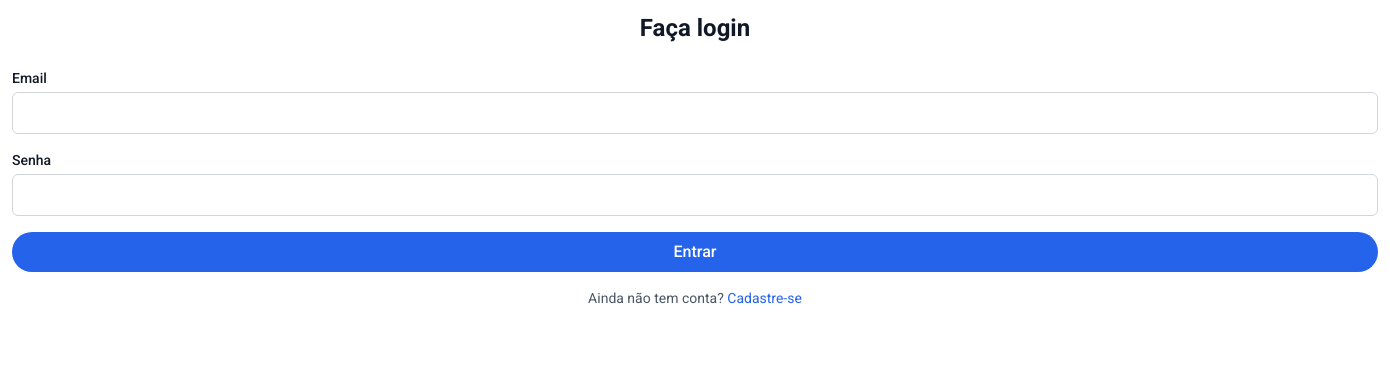
it: LoginForm › valida campos vazios
Click the button "Entrar": (695, 252) [12,232,1378,272]
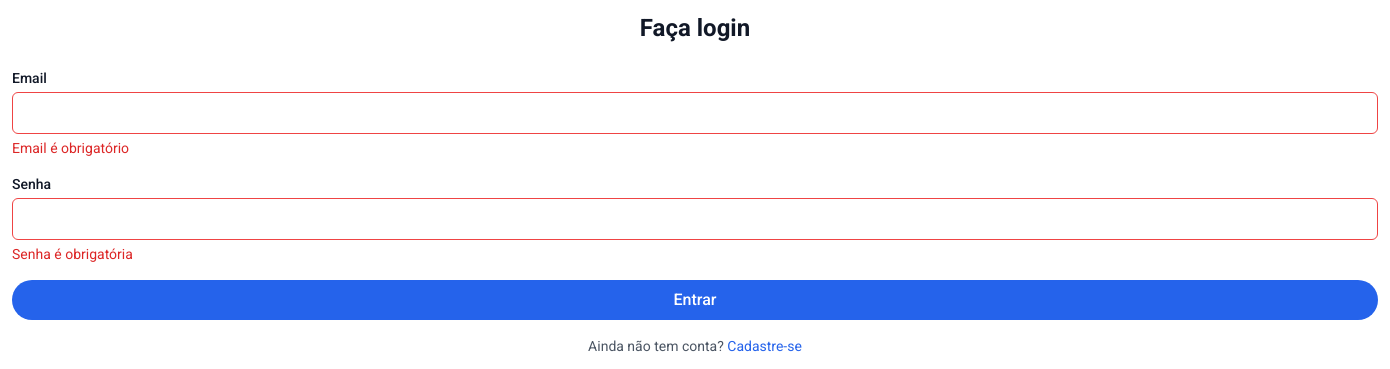
expect the text "Email é obrigatório" is shown: met, box [12,140,129,156]
expect the text "Senha é obrigatória" is shown: met, box [12,246,133,262]
